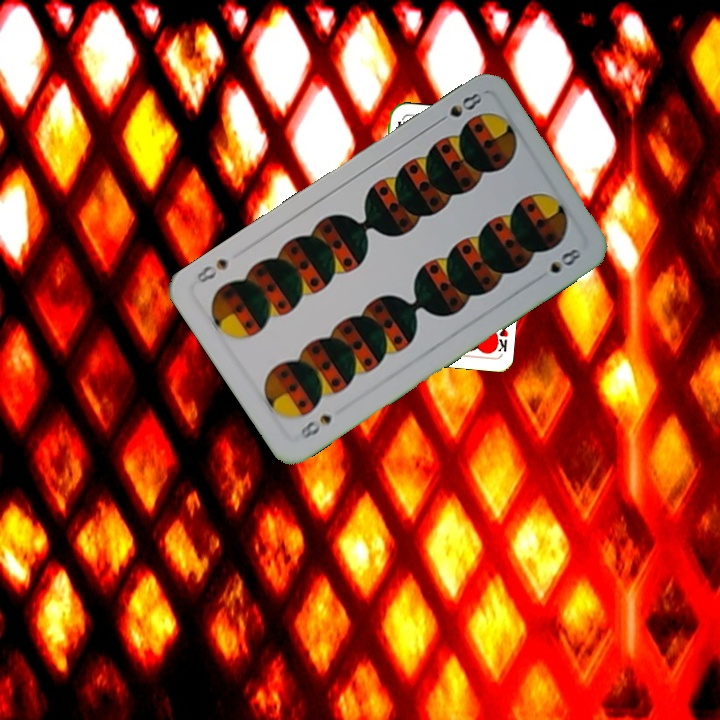HK: (489, 324, 511, 356)
S8: (431, 87, 485, 127), (296, 410, 335, 442)
